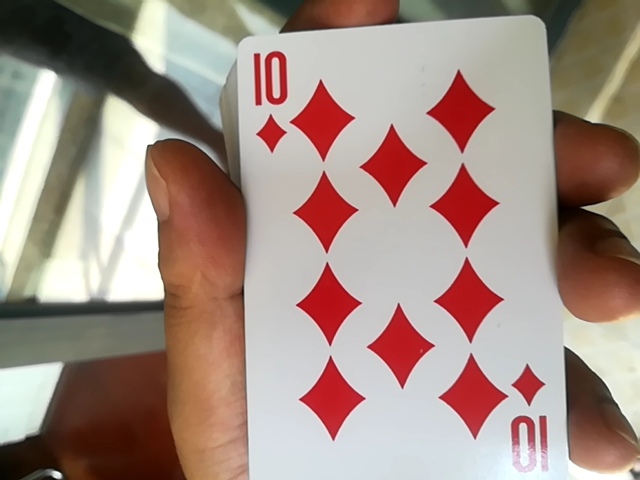fk 10: (222, 25, 590, 479)
